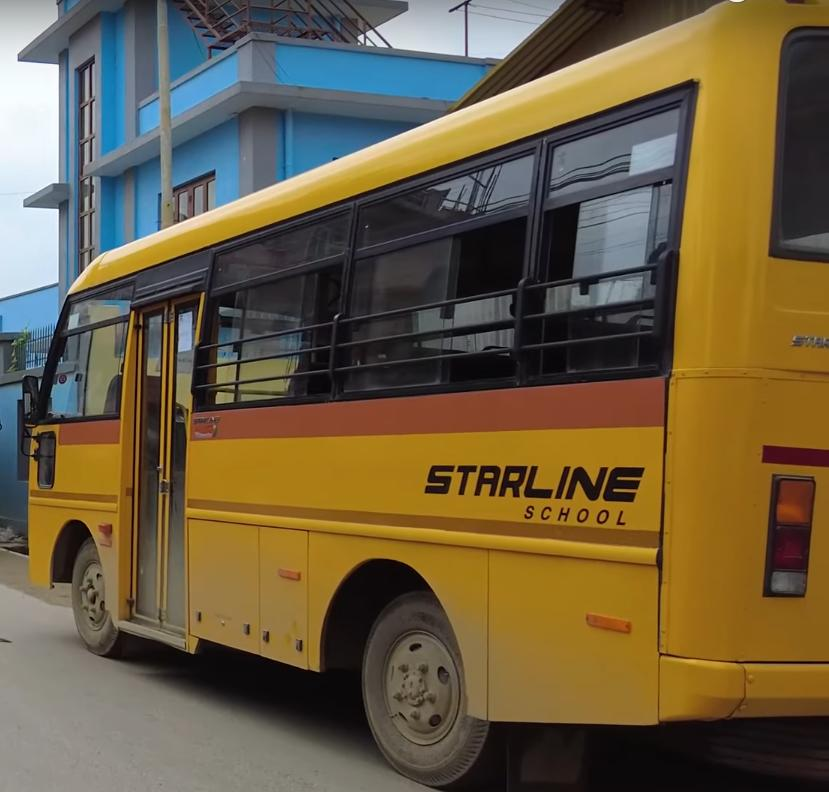school_bus: (10, 0, 829, 792)
